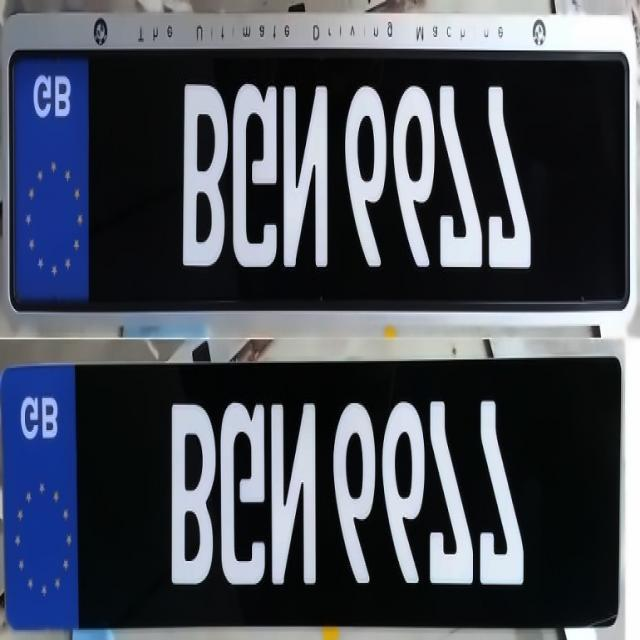car-plate: (3, 12, 638, 326), (1, 364, 622, 629)
